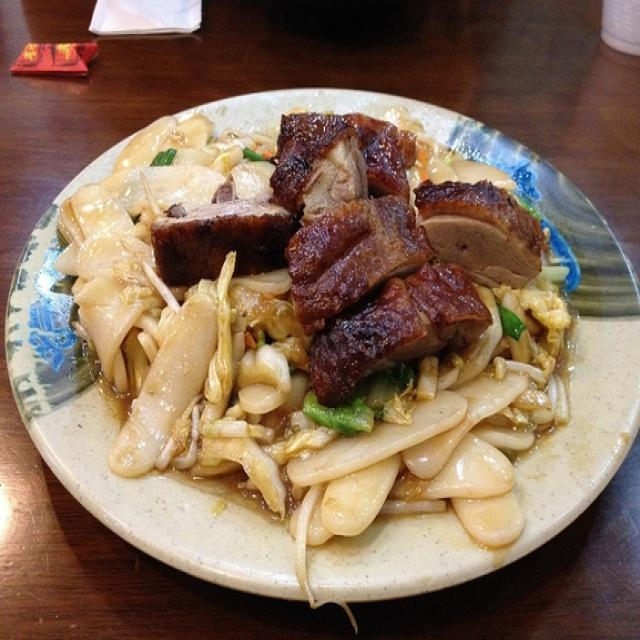米饭主食: (15, 74, 619, 585)
